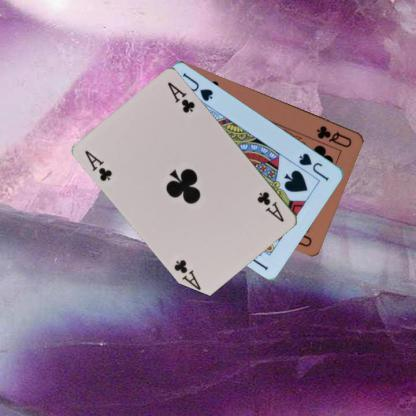Ac: (254, 188, 286, 224), (82, 147, 113, 182)
Js: (297, 150, 330, 183)
Qc: (314, 122, 354, 148)
